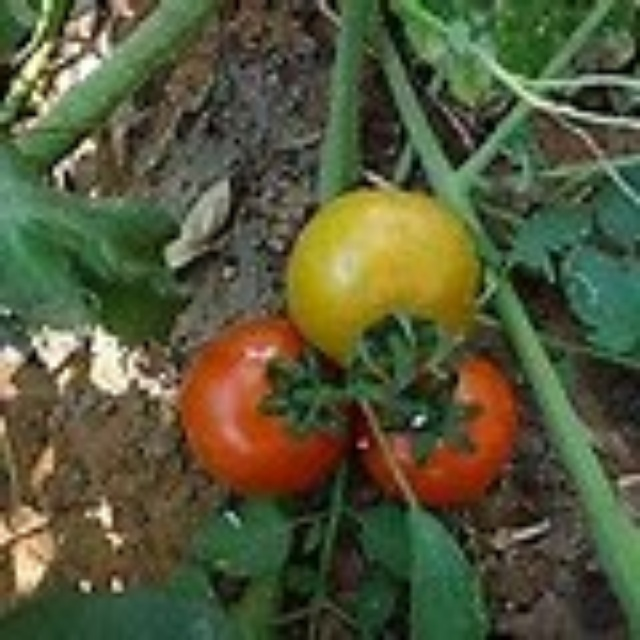tomato: (289, 193, 483, 366), (175, 320, 347, 495), (361, 351, 515, 504)
